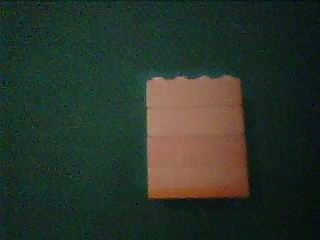lego: (144, 72, 249, 202)
